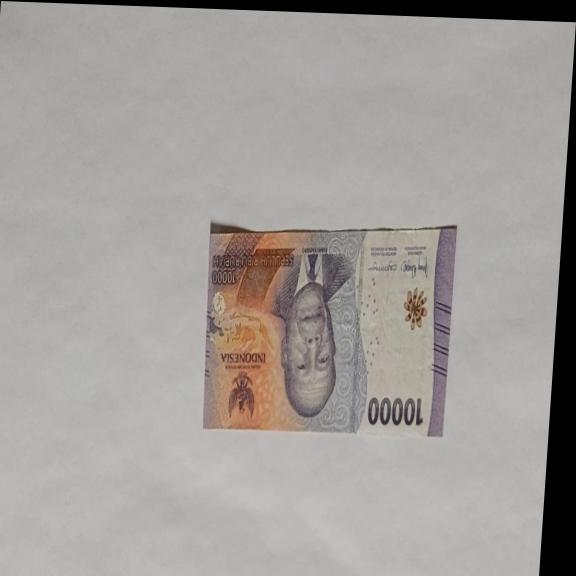Kertas: (195, 216, 457, 440)
